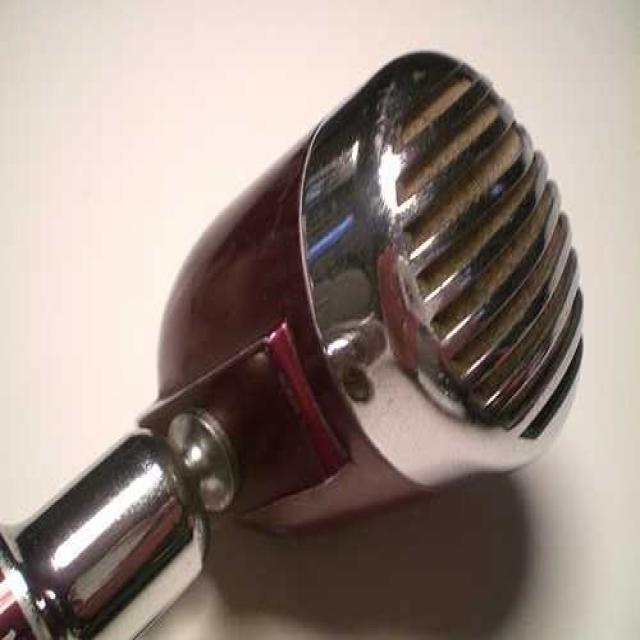microphone: (152, 54, 576, 528)
